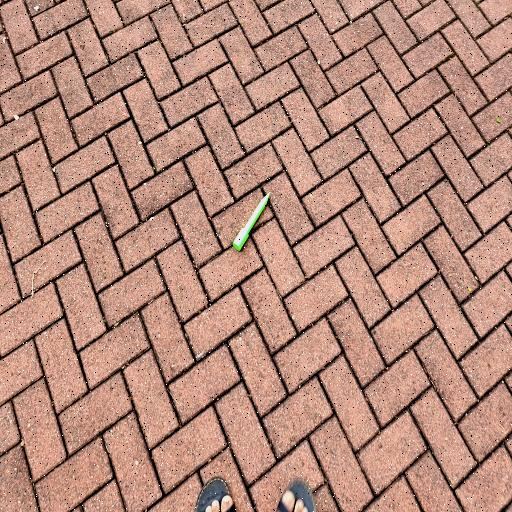Probe-Detection: (232, 193, 270, 251)
